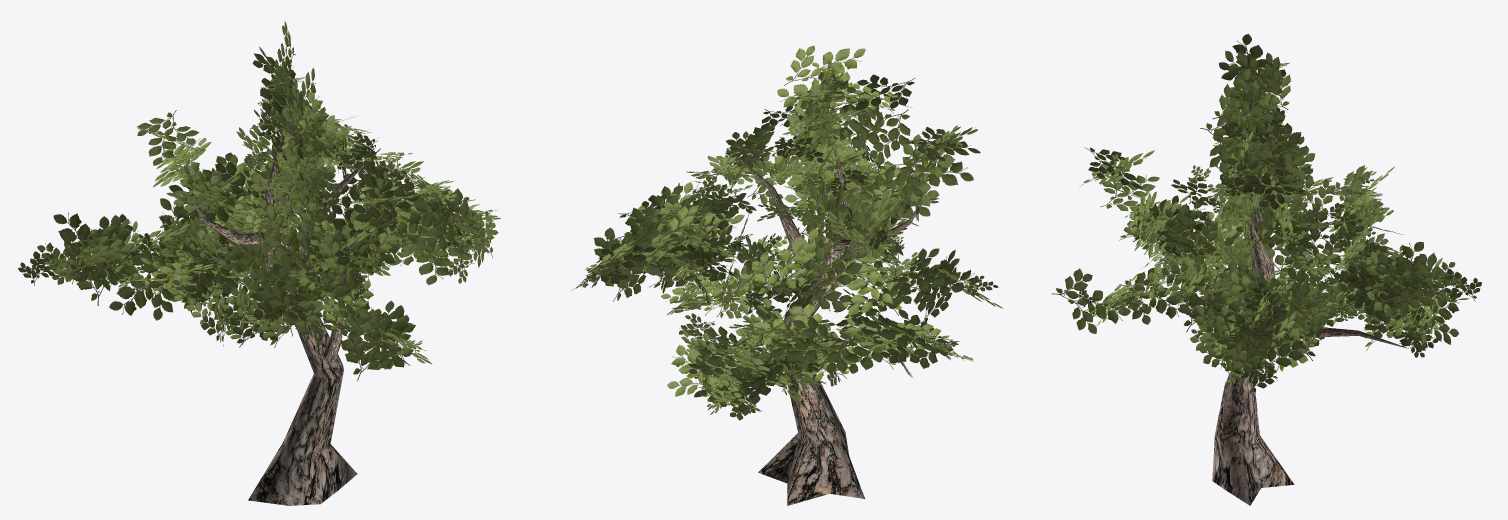
The model's file is lowpoly_tree.obj.
3 renders of one model, left to right at view 1: azimuth 30°, elevation 25°; view 2: azimuth 150°, elevation 25°; view 3: azimuth 270°, elevation 25°, orthographic. The views are drawn at different scales.
Visible parts, largest first — view 1: obj2, obj1; view 2: obj2, obj1; view 3: obj2, obj1.
Boxes of the visible parts, x1,y1,x2,y2 form: obj2: (18, 21, 501, 380); obj1: (187, 129, 380, 505); obj2: (571, 45, 1002, 420); obj1: (699, 133, 922, 505); obj2: (1052, 33, 1481, 394); obj1: (1212, 183, 1406, 505).
Size of the model in its own units: 1.75 by 1.84 by 1.65.
Materials: 2 (2 with a texture image).
